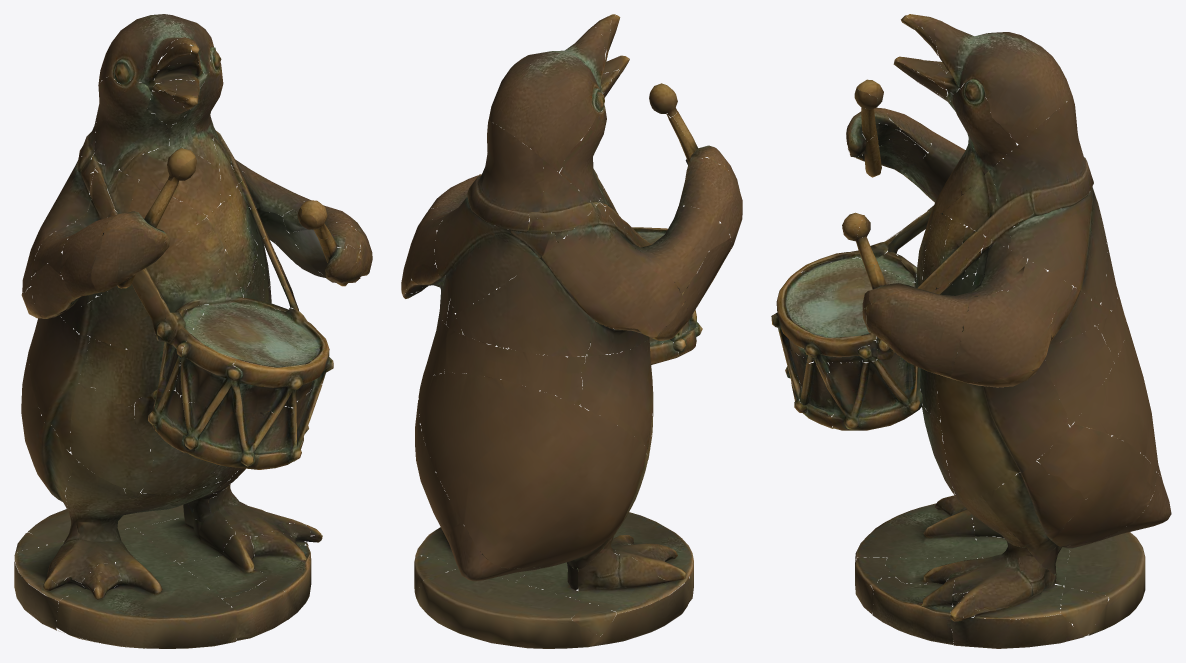
Rendered from h_clock_penguin.glb.
3 views of the same model, side by side, from view 1: azimuth 30°, elevation 25°; view 2: azimuth 150°, elevation 25°; view 3: azimuth 270°, elevation 25° (orthographic). The views are drawn at different scales.
Parts seen in each view (by area): view 1: tripo_node_9403f1a7-6083-404d-91a7-480ce6391717; view 2: tripo_node_9403f1a7-6083-404d-91a7-480ce6391717; view 3: tripo_node_9403f1a7-6083-404d-91a7-480ce6391717.
Boxes of the visible parts, <box> form: tripo_node_9403f1a7-6083-404d-91a7-480ce6391717: <box>14,14,372,648</box>; tripo_node_9403f1a7-6083-404d-91a7-480ce6391717: <box>401,14,742,648</box>; tripo_node_9403f1a7-6083-404d-91a7-480ce6391717: <box>771,14,1171,648</box>.
Size of the model in its own units: 0.5525 by 1 by 0.6401.
Materials: 1 (1 with a texture image).
